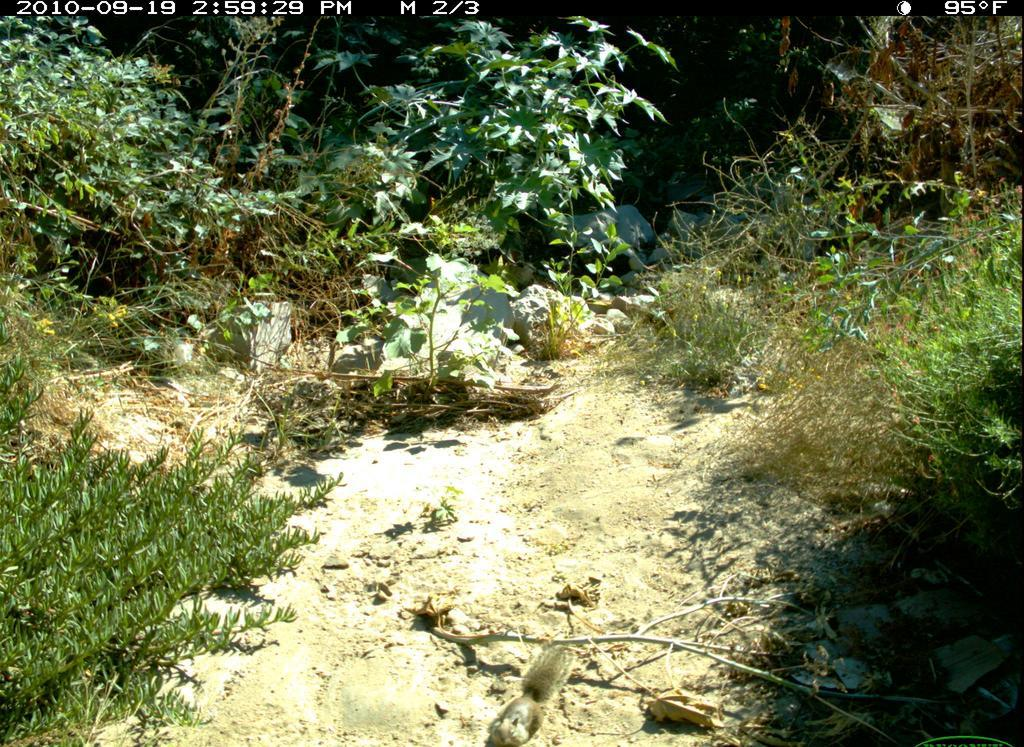squirrel: (482, 630, 583, 747)
